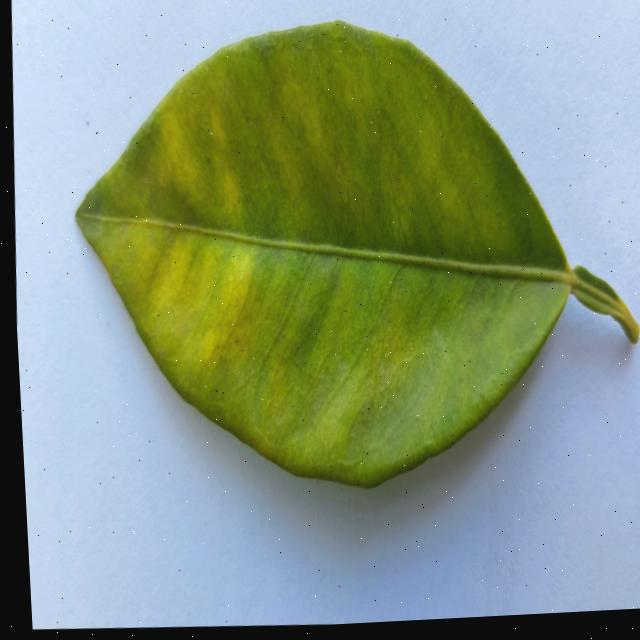greening: (76, 23, 638, 484)
